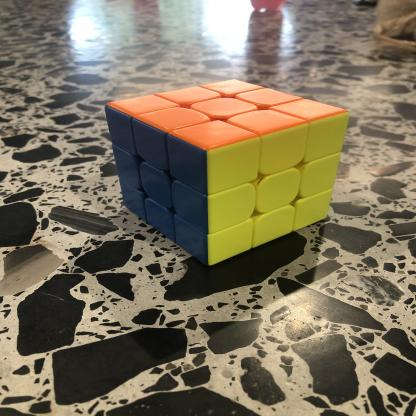SolvedCube: (75, 58, 361, 273)
